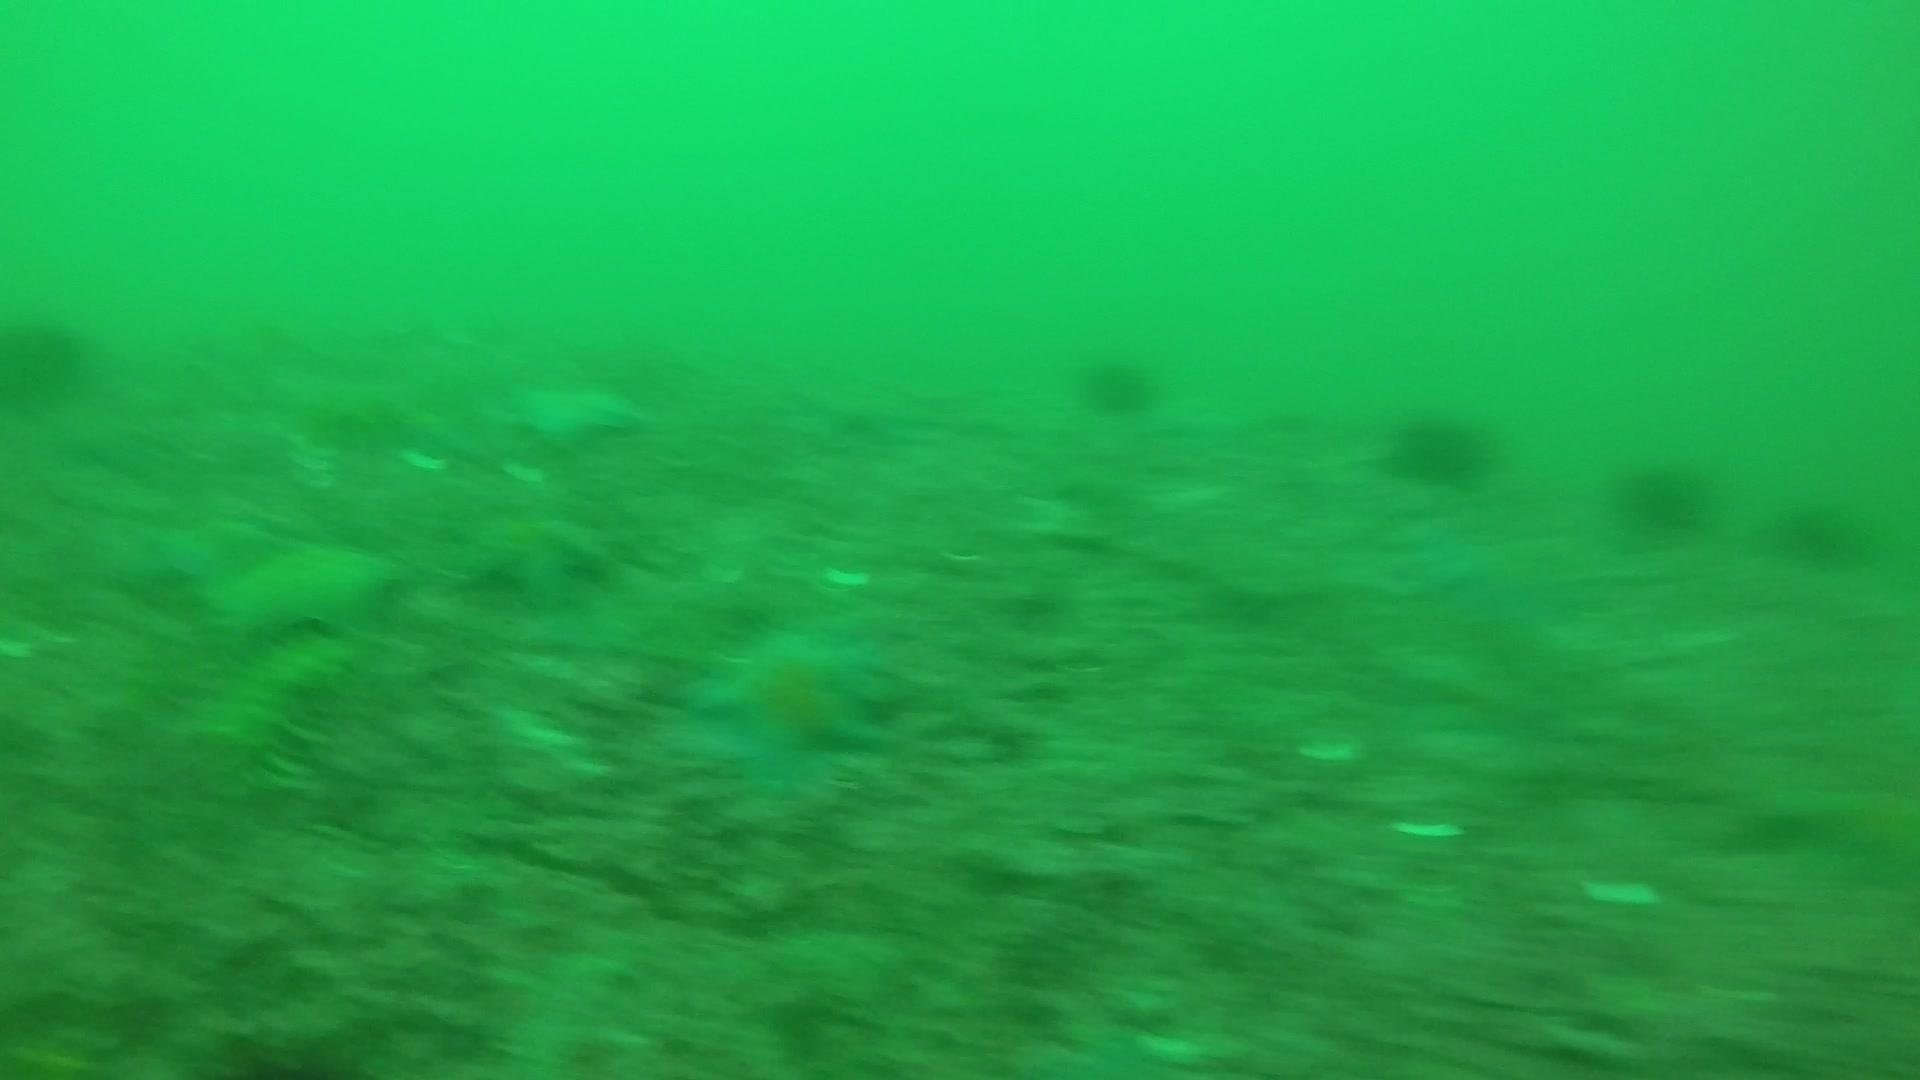echinus: (1381, 401, 1502, 492), (1606, 448, 1718, 542), (3, 305, 94, 411), (1768, 487, 1876, 574), (1073, 344, 1163, 419)
holothurian: (190, 626, 363, 806)
starfish: (675, 615, 901, 783), (204, 521, 400, 645), (458, 500, 611, 607), (505, 372, 649, 450)
